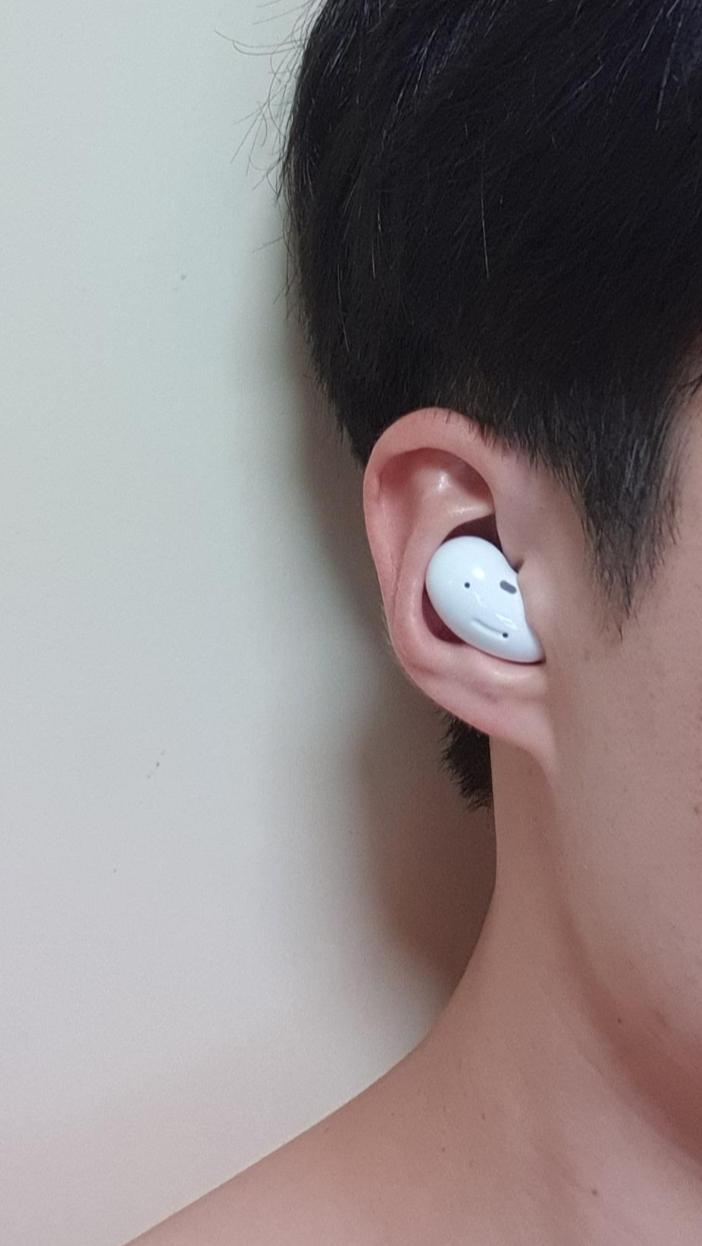earphone: (361, 408, 561, 764)
